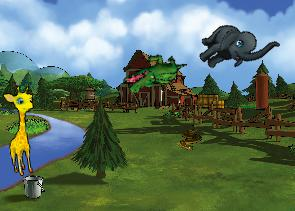crocodile: (120, 40, 188, 107)
elephant: (191, 3, 280, 91)
giraffe: (1, 84, 44, 177)
